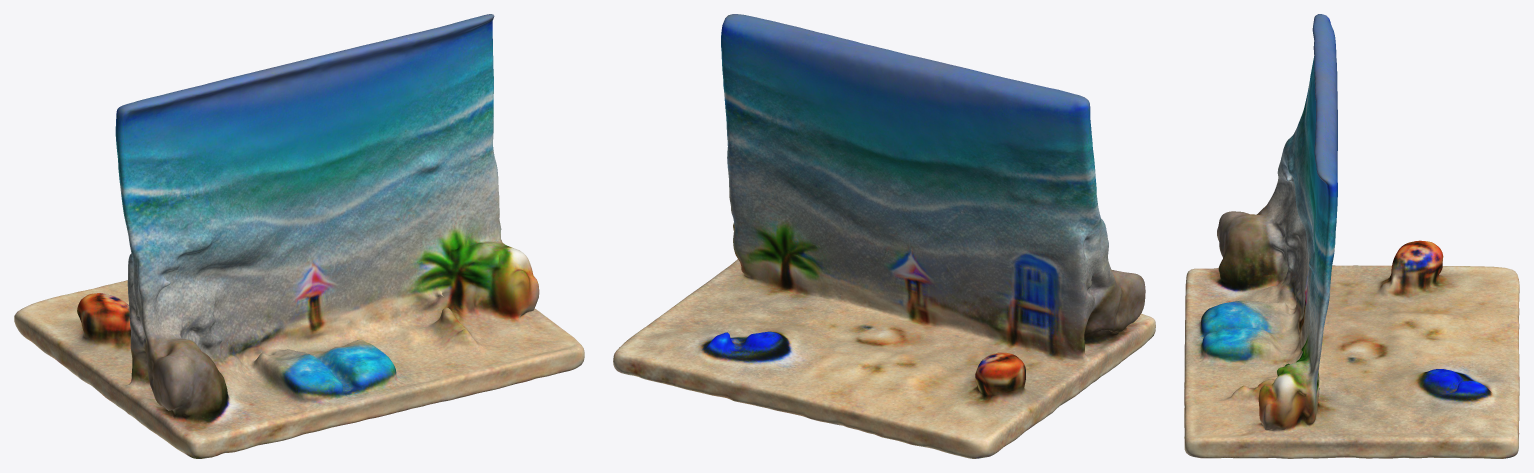
File: bilu.glb
The picture shows the model from 3 angles, left to right: view 1: azimuth 30°, elevation 25°; view 2: azimuth 150°, elevation 25°; view 3: azimuth 270°, elevation 25°; orthographic projection. The views are drawn at different scales.
Parts seen in each view (by area): view 1: high_poly; view 2: high_poly; view 3: high_poly.
Part boxes in pixels (left/top/right/bottom): high_poly: left=14, top=14, right=584, bottom=458; high_poly: left=613, top=14, right=1155, bottom=458; high_poly: left=1184, top=14, right=1519, bottom=458.
Size of the model in its own units: 1 by 0.7242 by 0.7994.
Materials: 1 (1 with a texture image).
